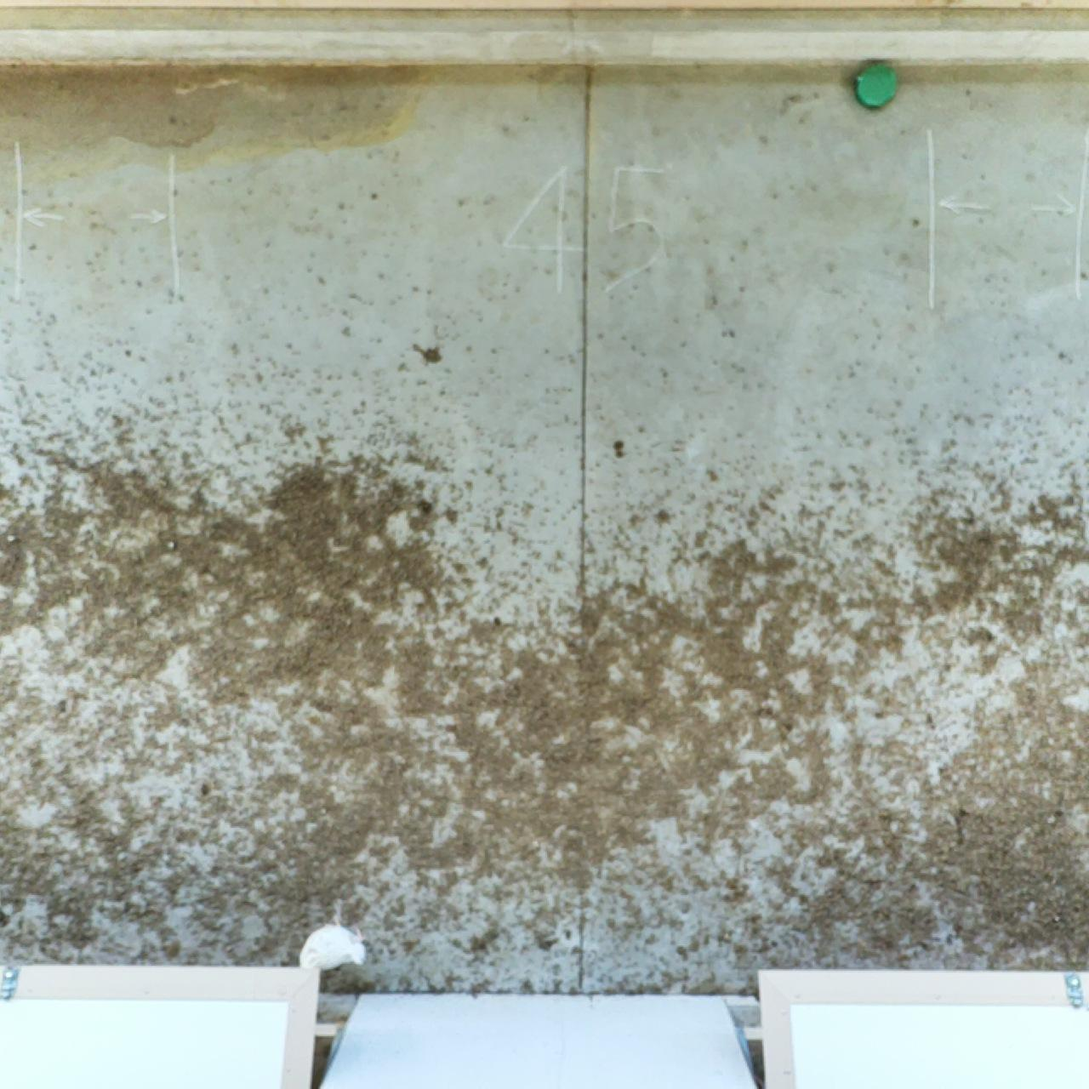chicken: (297, 920, 370, 974)
